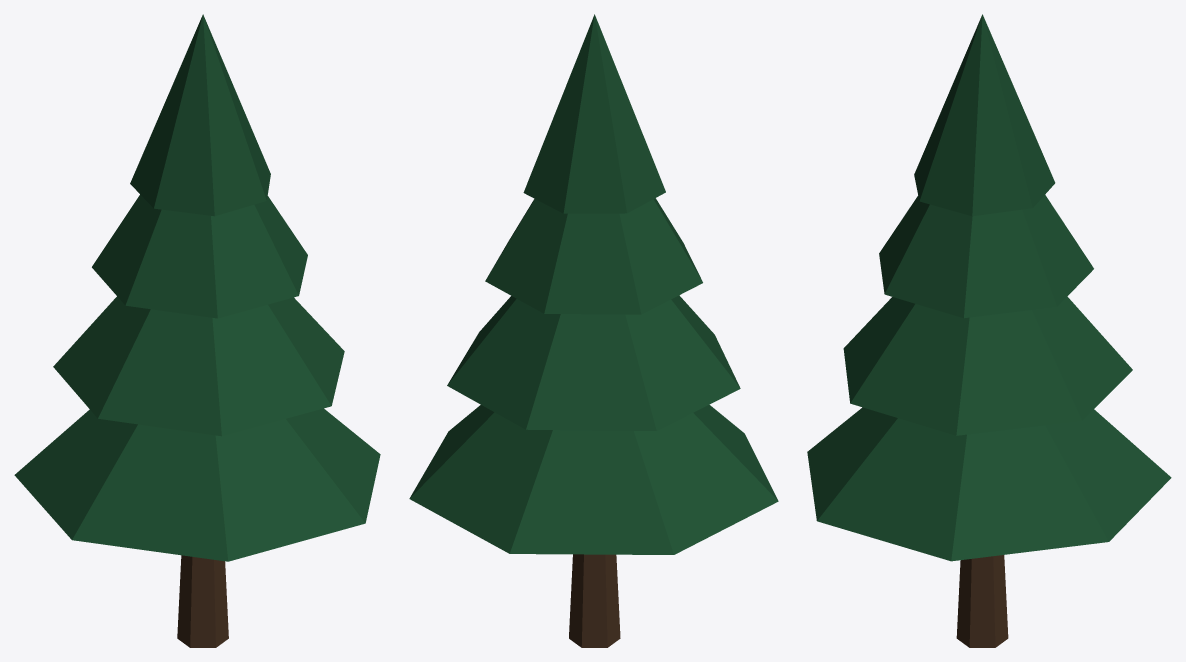
Rendered from SM_GZ_tree_pine.fbx.
The picture shows the model from 3 angles, left to right: view 1: azimuth 30°, elevation 25°; view 2: azimuth 150°, elevation 25°; view 3: azimuth 270°, elevation 25°; orthographic projection.
Visible parts, largest first — view 1: SM_GZ_tree_pine; view 2: SM_GZ_tree_pine; view 3: SM_GZ_tree_pine.
Part boxes in pixels (x1,y1,x2,y2): SM_GZ_tree_pine: [14, 14, 380, 647]; SM_GZ_tree_pine: [409, 14, 778, 647]; SM_GZ_tree_pine: [807, 14, 1171, 647].
Size of the model in its own units: 428 by 800 by 423.
